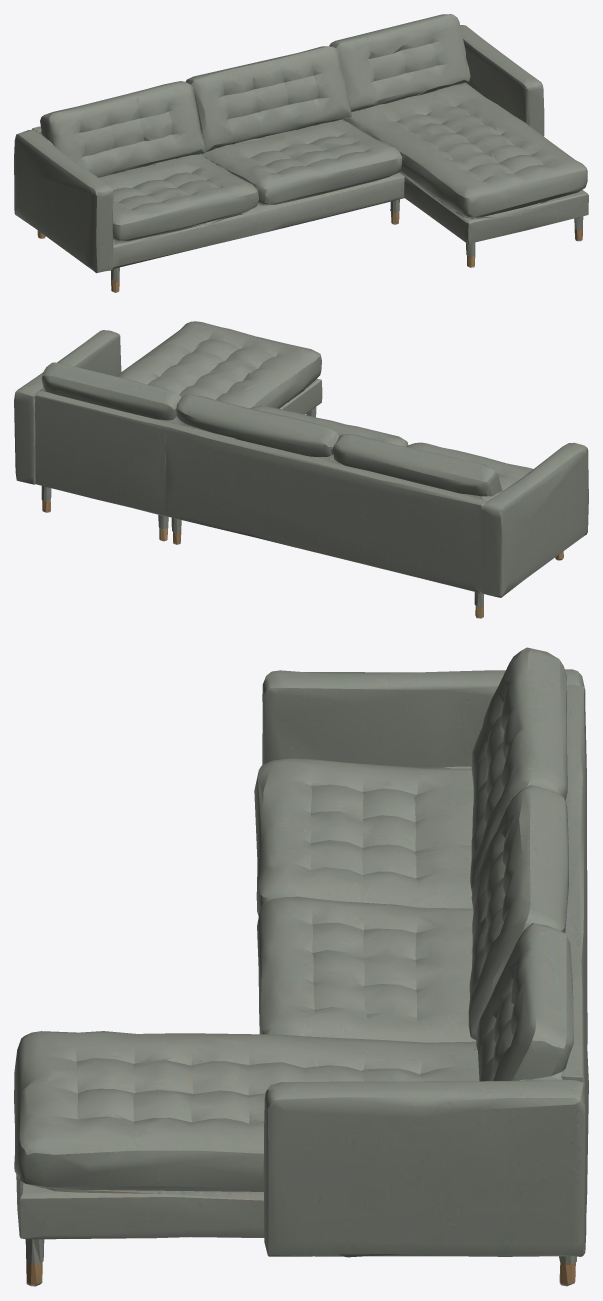
The model's file is 29 - LANDSKRONA - 四人座沙發，含躺椅Gunnared 淺綠色木頭 IKEA 線上購物.glb.
3 renders of one model, top to bottom at view 1: azimuth 30°, elevation 25°; view 2: azimuth 150°, elevation 25°; view 3: azimuth 270°, elevation 25°, orthographic. The views are drawn at different scales.
Visible parts, largest first — view 1: ProcessedMeshNode; view 2: ProcessedMeshNode; view 3: ProcessedMeshNode.
Part boxes in pixels (x1,y1,x2,y2): ProcessedMeshNode: (14,14,588,292); ProcessedMeshNode: (14,321,588,618); ProcessedMeshNode: (14,647,588,1286).
Bounding box in the file's own units: 2.8 × 0.78 × 1.57.
1 material, 1 textured.
